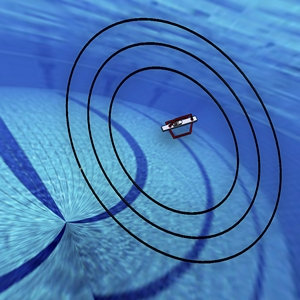circle: (57, 5, 300, 272)
submarine: (157, 111, 205, 153)
